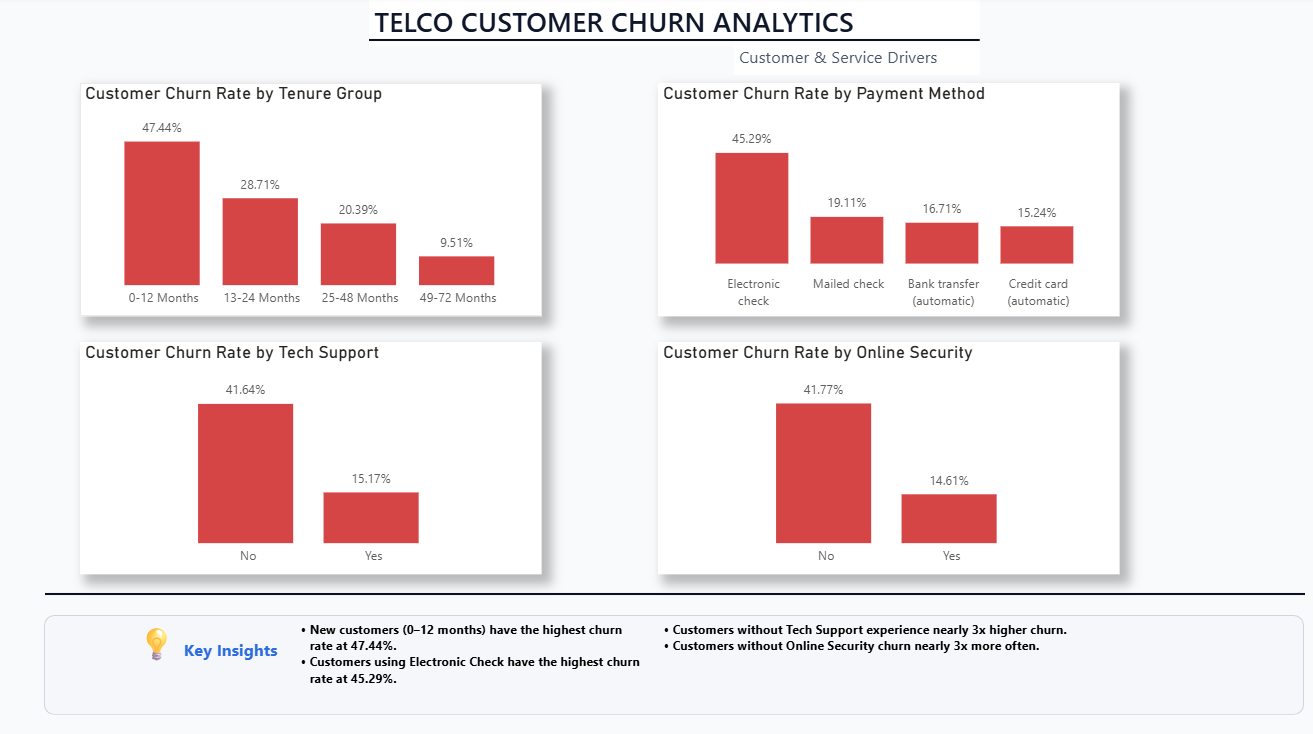

This screenshot's page, from the dashboard's own definition file:
{"tool":"powerbi","page":{"name":"Customer & Service Drivers","canvas":[1280,720],"ordinal":1},"visuals":[{"type":"textbox","box":[358.9,0,594.3,47.7],"z":0},{"type":"textbox","box":[713.9,41.8,239.3,34],"z":1000},{"type":"shape","box":[358.9,24.3,594.3,35],"z":2000},{"type":"clusteredColumnChart","title":"Customer Churn Rate by Tenure Group","fields":{"Category":["telco_customers.Tenure Group"],"Y":["Measures (2).Churn Rate"]},"box":[77.8,83.6,449.4,226.6],"z":3000},{"type":"clusteredColumnChart","title":"Customer Churn Rate by Payment Method","fields":{"Category":["telco_customers.PaymentMethod"],"Y":["Measures (2).Churn Rate"]},"box":[640,83.6,449,226.6],"z":4000},{"type":"clusteredColumnChart","title":"Customer Churn Rate by Tech Support","fields":{"Category":["telco_customers.TechSupport"],"Y":["Measures (2).Churn Rate"]},"box":[77.8,335.6,449.4,225.7],"z":5000},{"type":"clusteredColumnChart","title":"Customer Churn Rate by Online Security","fields":{"Category":["telco_customers.OnlineSecurity"],"Y":["Measures (2).Churn Rate"]},"box":[640,335.6,449.4,225.7],"z":6000},{"type":"shape","box":[43.8,570.9,1225.5,19.5],"z":7000},{"type":"shape","box":[42.8,601.1,1225.5,97.3],"z":8000},{"type":"textbox","box":[278.2,601.1,353.1,97.3],"z":9000},{"type":"textbox","box":[631.2,601.1,534,97.3],"z":10000},{"type":"textbox","box":[125.5,601.1,152.7,97.3],"z":11000}]}

Visuals, with their boxes in screenshot pixels (x1, y1, x2, y2), scaled from the page's 1280x720 canvas onto the 1313x734 screenshot:
textbox: box=[368, 0, 978, 49]
textbox: box=[732, 43, 978, 77]
shape: box=[368, 25, 978, 60]
"Customer Churn Rate by Tenure Group" clusteredColumnChart: box=[80, 85, 541, 316]
"Customer Churn Rate by Payment Method" clusteredColumnChart: box=[656, 85, 1117, 316]
"Customer Churn Rate by Tech Support" clusteredColumnChart: box=[80, 342, 541, 572]
"Customer Churn Rate by Online Security" clusteredColumnChart: box=[656, 342, 1117, 572]
shape: box=[45, 582, 1302, 602]
shape: box=[44, 613, 1301, 712]
textbox: box=[285, 613, 648, 712]
textbox: box=[647, 613, 1195, 712]
textbox: box=[129, 613, 285, 712]
